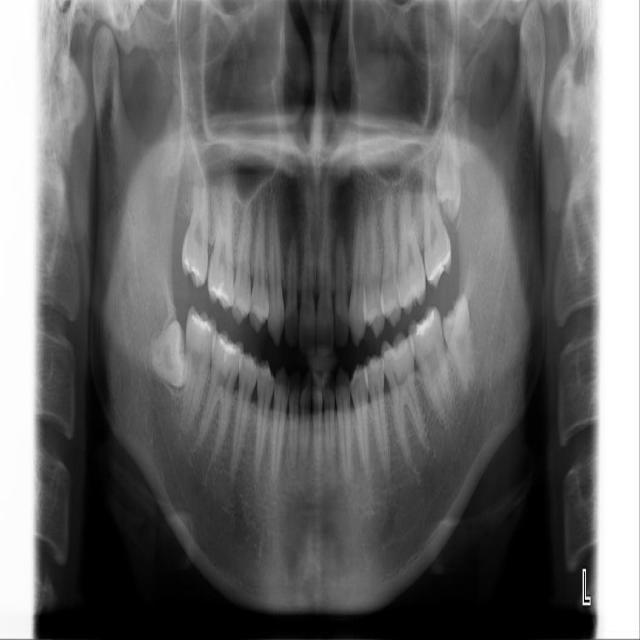52: (405, 305, 447, 369), (181, 305, 220, 366), (208, 329, 246, 383), (180, 225, 210, 289), (207, 247, 234, 310), (424, 230, 452, 290)
73: (584, 580, 591, 596)
BioHorizons Implant: (418, 151, 454, 290)
BioLife Implant: (431, 106, 463, 225)
Biomet 3i Implant: (438, 291, 479, 397)
Blue Sky Bio Implant: (405, 304, 456, 424)
Caries: (181, 160, 210, 288)
Implant: (176, 304, 219, 430)
Keystone Dental Implant: (143, 320, 192, 392)
